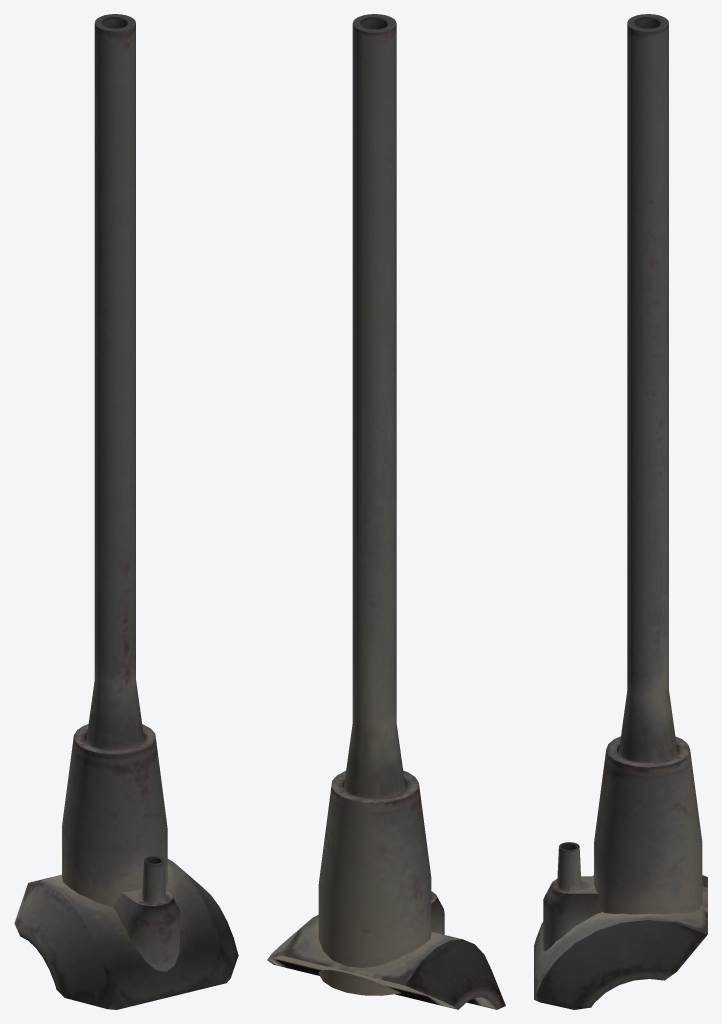
File: Gun_04.glb
3 views of the same model, side by side, from view 1: azimuth 30°, elevation 25°; view 2: azimuth 150°, elevation 25°; view 3: azimuth 270°, elevation 25° (orthographic). The views are drawn at different scales.
Parts seen in each view (by area): view 1: set_0_group_0; view 2: set_0_group_0; view 3: set_0_group_0.
Boxes of the visible parts, x1,y1,x2,y2 form: set_0_group_0: (14,14,238,1009); set_0_group_0: (267,14,505,1009); set_0_group_0: (534,14,707,1009).
Bounding box in the file's own units: 1 × 5.13 × 0.8518.
Materials: 1 (1 with a texture image).
